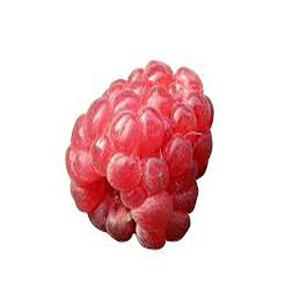raspb: (56, 44, 226, 264)
